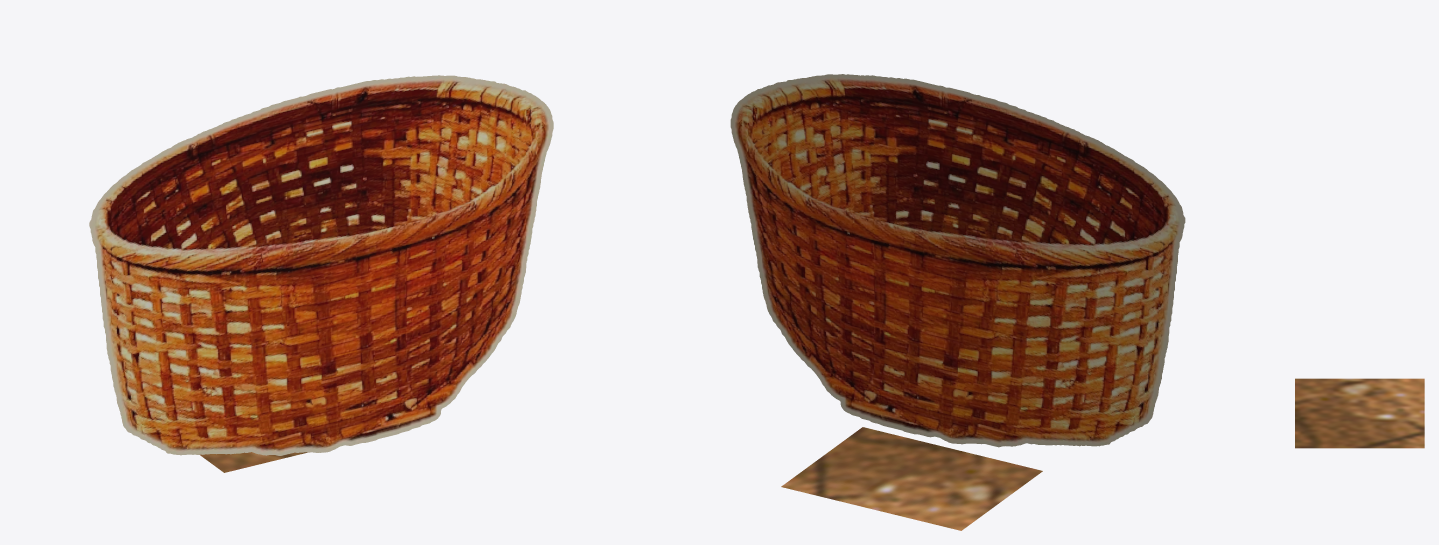
The model's file is toad-prop-fish-basket.glb.
3 renders of one model, left to right at view 1: azimuth 30°, elevation 25°; view 2: azimuth 150°, elevation 25°; view 3: azimuth 270°, elevation 25°, orthographic. The views are drawn at different scales.
Visible parts, largest first — view 1: fish-basket; view 2: fish-basket; view 3: fish-basket.
Boxes of the visible parts, <box> form: fish-basket: <box>89,75,553,472</box>; fish-basket: <box>730,74,1185,530</box>; fish-basket: <box>1295,378,1424,448</box>.
Bounding box in the file's own units: 0.14 × 0.08 × 0.035.
Materials: 1 (1 with a texture image).
